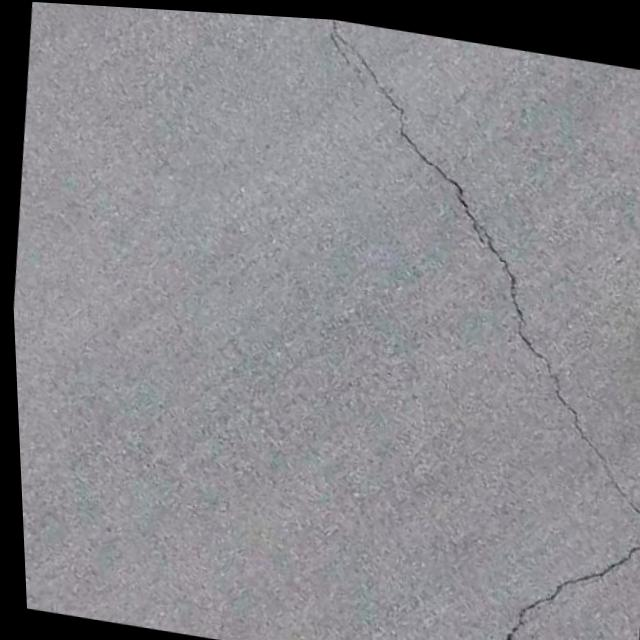Crack: (269, 13, 506, 225), (475, 220, 640, 524), (405, 494, 640, 640)
